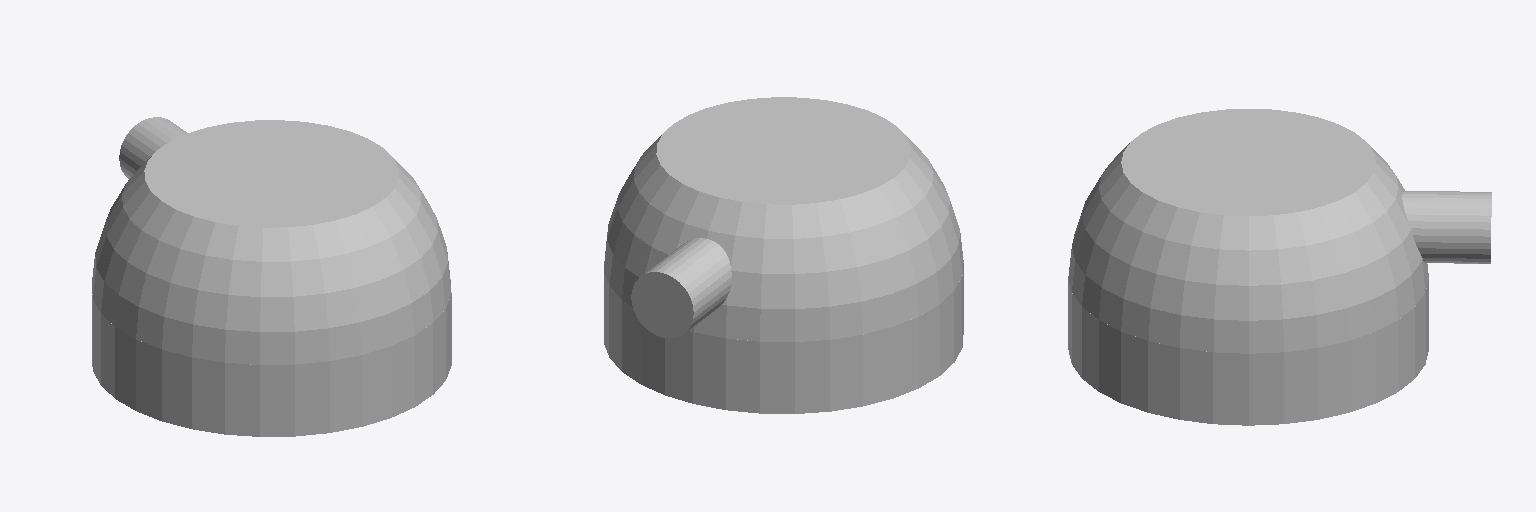
The model's file is fort.obj.
3 views of the same model, side by side, from view 1: azimuth 30°, elevation 25°; view 2: azimuth 150°, elevation 25°; view 3: azimuth 270°, elevation 25° (orthographic).
Visible parts, largest first — view 1: 球体, 柱体.001, 柱体; view 2: 球体, 柱体.001, 柱体; view 3: 球体, 柱体.001, 柱体.
Part boxes in pixels (x1,y1,x2,y2): 球体: (92, 120, 451, 364); 柱体.001: (92, 279, 451, 436); 柱体: (119, 117, 186, 178); 球体: (604, 97, 963, 341); 柱体.001: (604, 262, 963, 413); 柱体: (631, 238, 731, 338); 球体: (1068, 109, 1428, 353); 柱体.001: (1068, 278, 1428, 425); 柱体: (1402, 191, 1491, 263).
Bounding box in the file's own units: 2 × 1.14 × 2.35.